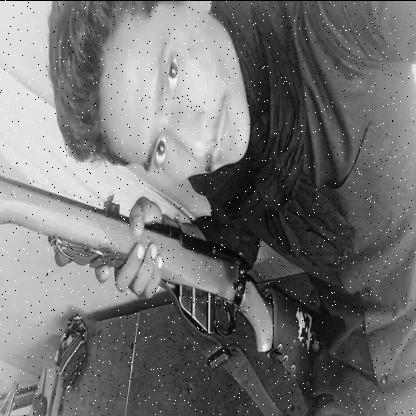rifle: (0, 174, 329, 416)
